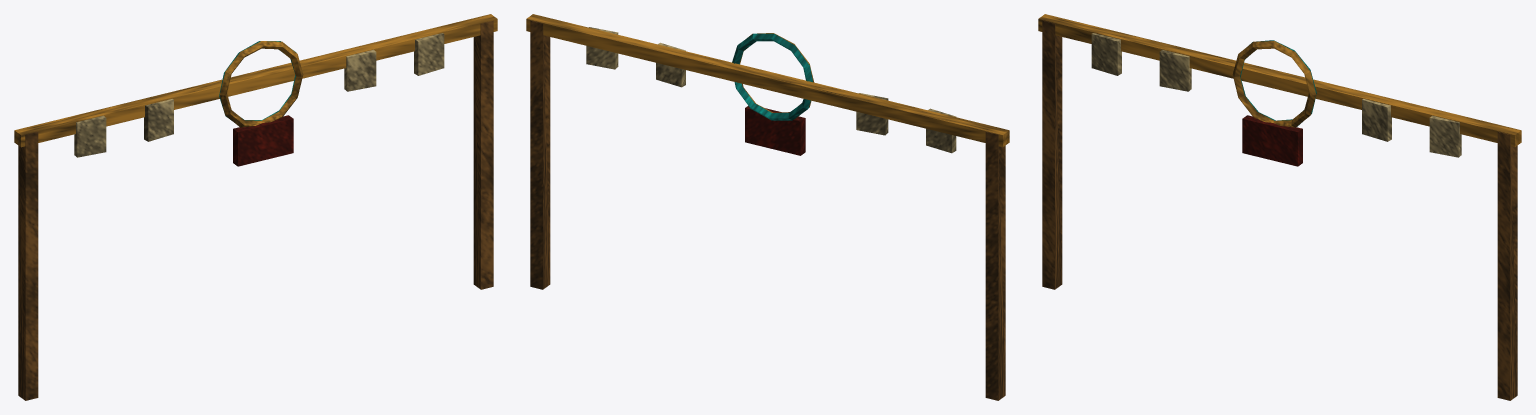
File: picnic-staging-gate.glb
3 renders of one model, left to right at view 1: azimuth 30°, elevation 25°; view 2: azimuth 150°, elevation 25°; view 3: azimuth 330°, elevation 25°, orthographic.
Parts seen in each view (by area): view 1: picnic-staging-gate; view 2: picnic-staging-gate; view 3: picnic-staging-gate.
Boxes of the visible parts, x1,y1,x2,y2 form: picnic-staging-gate: (14, 14, 497, 400); picnic-staging-gate: (526, 14, 1009, 400); picnic-staging-gate: (1038, 14, 1521, 400).
Bounding box in the file's own units: 9 × 5.49 × 0.44.
Materials: 1 (1 with a texture image).
